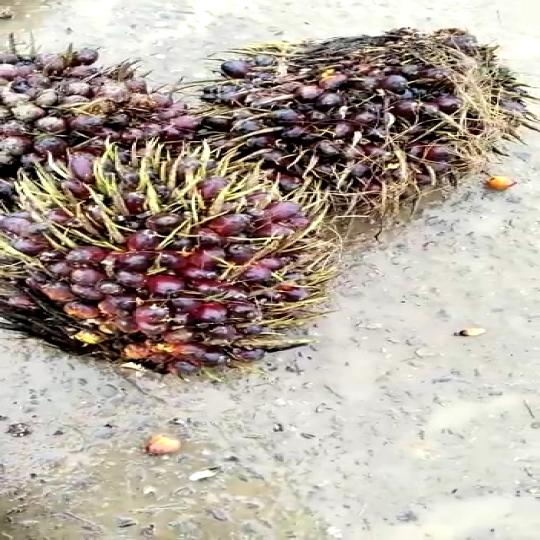kurang masak: (0, 139, 338, 388), (200, 16, 538, 210), (0, 32, 172, 209)
